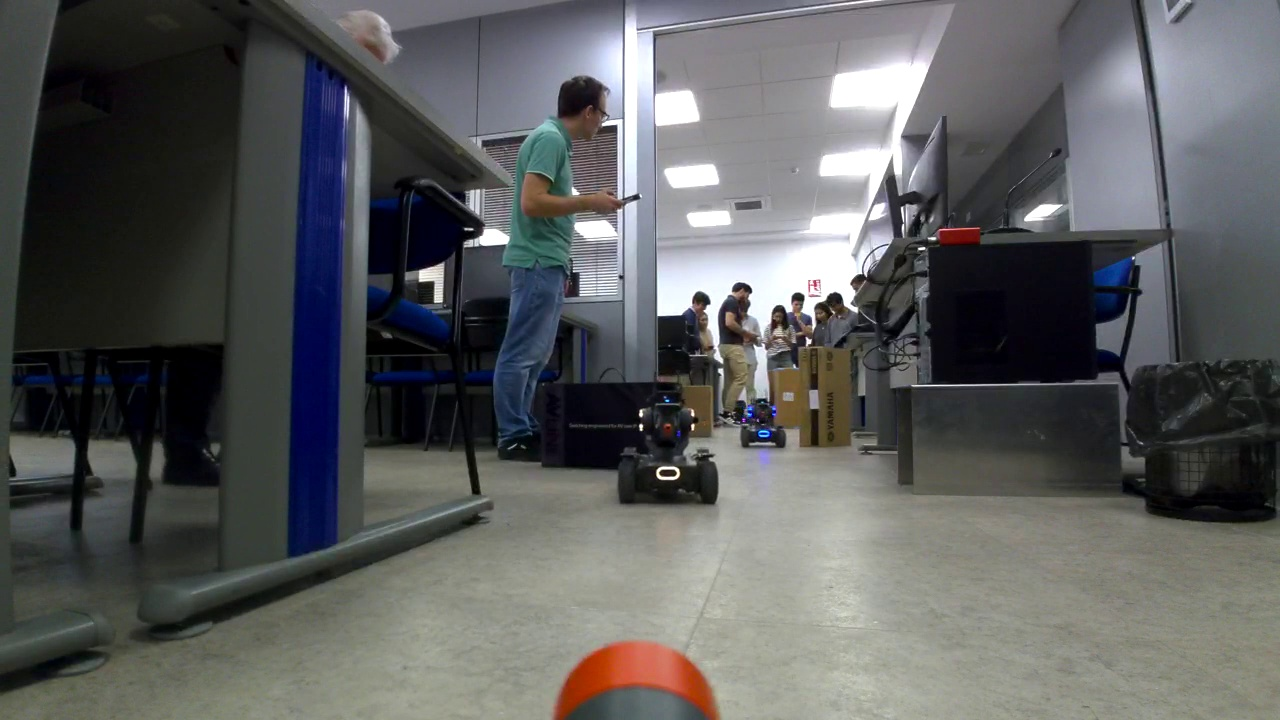robot: (615, 411, 722, 507), (735, 400, 781, 446)
